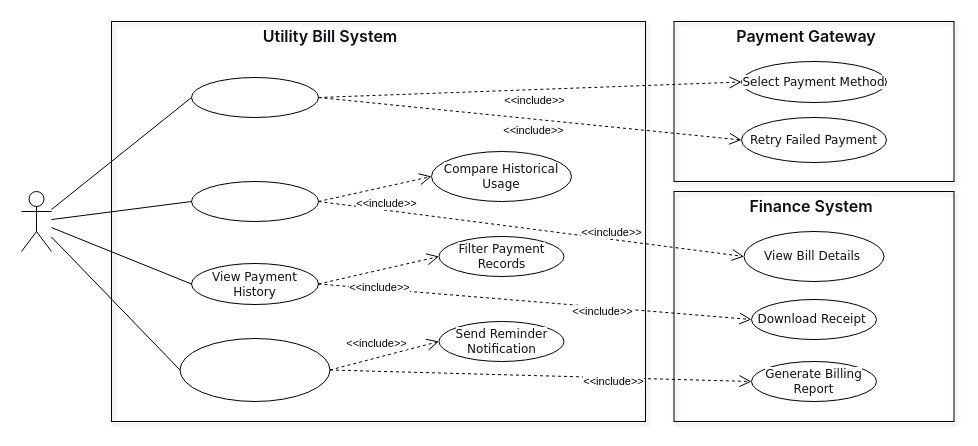
The diagram is 978 pixels wide and 446 high, and some of its shapes have lost their labels. The shapes that lost their labels are listed below. From the top down, each one's centre as x and y in pixels, then its label:
At (x=254, y=97): "Pay Utility Bill".
At (x=36, y=221): "student".
At (x=254, y=201): "View Utility Bill".
At (x=254, y=370): "Notify Due Date / Generate Monthly Bill".
